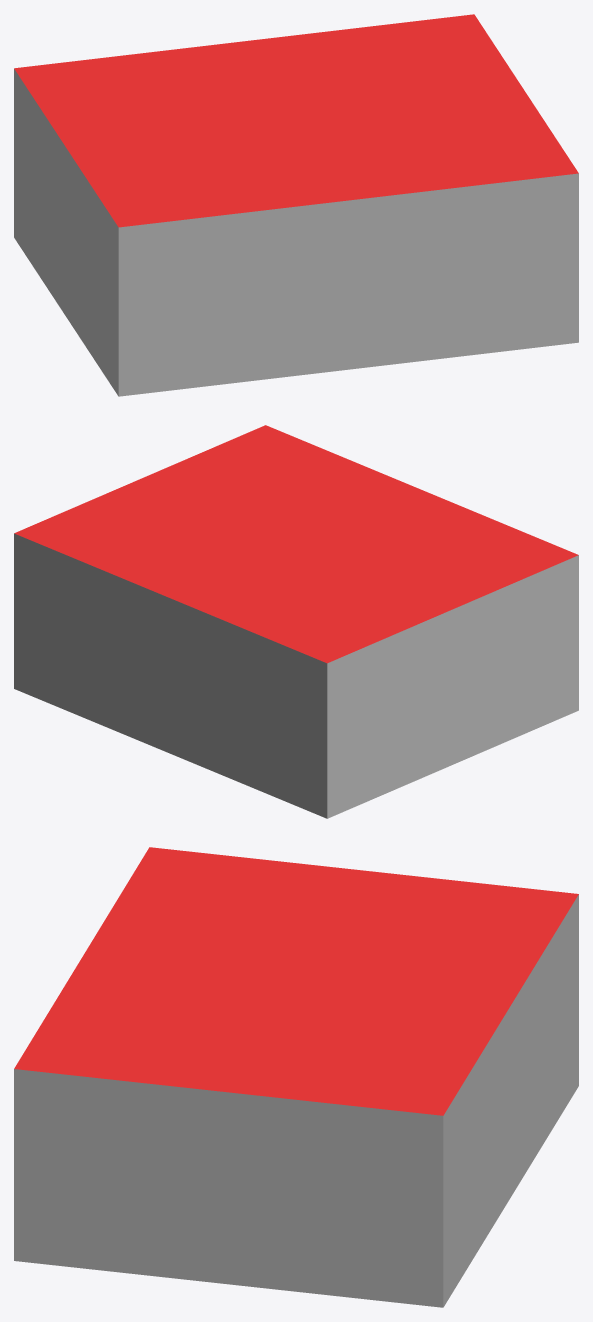
File: DEBY_LOD2_4729365.dae
The picture shows the model from 3 angles, top to bottom: view 1: azimuth 30°, elevation 25°; view 2: azimuth 150°, elevation 25°; view 3: azimuth 270°, elevation 25°; orthographic projection. The views are drawn at different scales.
Size of the model in its own units: 6.93 by 6.16 by 2.31.
